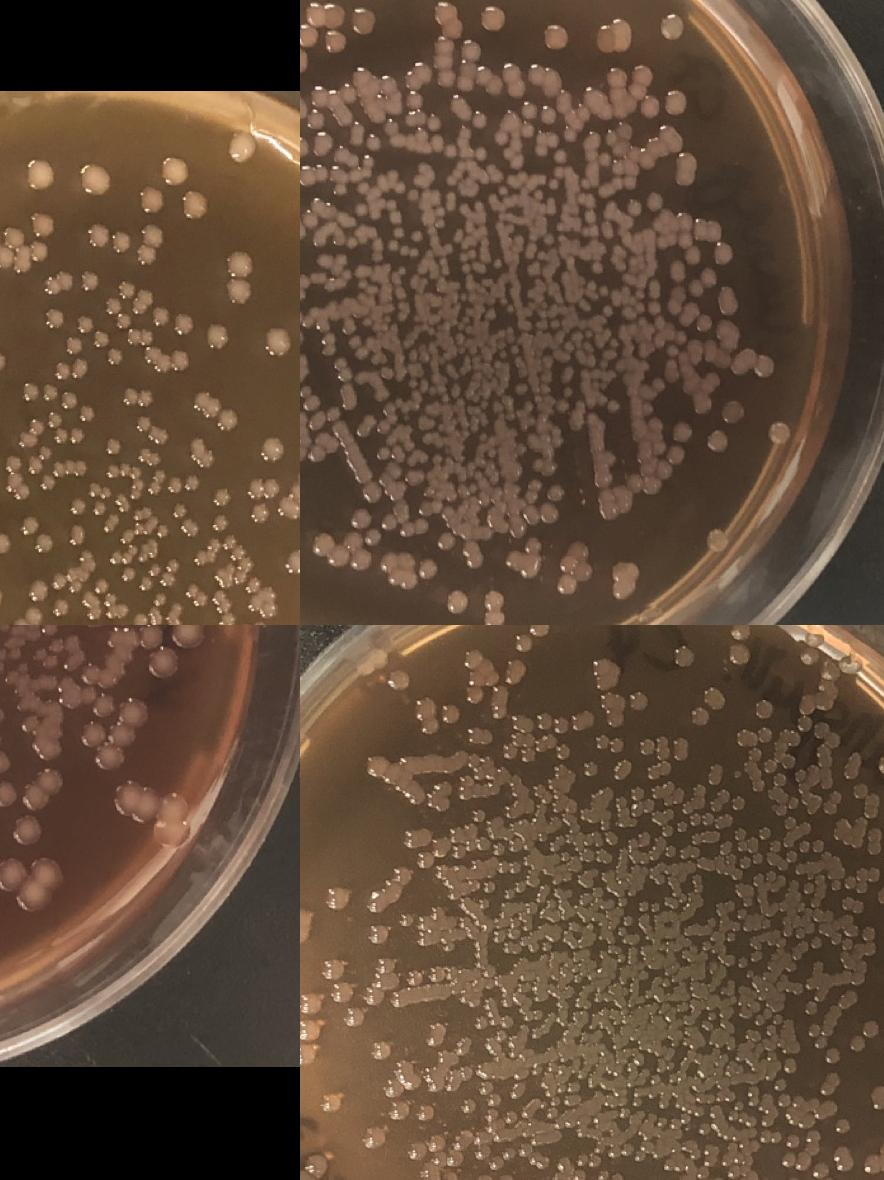pddamselae: (19, 382, 98, 422), (192, 390, 238, 429), (208, 533, 254, 571), (224, 247, 254, 305), (85, 223, 135, 255), (106, 461, 146, 501), (135, 221, 166, 267), (91, 329, 128, 366), (20, 515, 55, 553), (0, 222, 28, 268), (150, 306, 196, 332), (82, 162, 112, 192), (136, 184, 166, 214), (158, 154, 188, 184), (264, 324, 292, 356), (52, 357, 90, 380), (183, 190, 212, 220), (228, 132, 256, 163), (26, 158, 54, 188), (204, 321, 232, 351), (42, 270, 75, 295), (6, 607, 46, 625), (120, 386, 156, 406), (51, 458, 89, 476), (54, 424, 88, 444), (259, 435, 285, 461), (32, 213, 58, 238), (246, 479, 280, 496), (278, 493, 300, 519), (281, 546, 300, 576), (160, 557, 178, 585), (88, 482, 115, 500), (138, 446, 162, 466), (147, 468, 166, 492), (29, 579, 51, 599), (64, 336, 86, 356), (79, 269, 101, 289), (100, 295, 122, 315), (116, 278, 138, 298), (168, 349, 190, 369), (43, 307, 65, 326), (74, 314, 95, 333), (64, 526, 86, 544), (165, 603, 182, 625), (150, 426, 168, 444), (192, 589, 210, 607), (213, 487, 231, 505), (252, 504, 270, 522), (196, 448, 214, 465), (0, 350, 8, 379), (16, 484, 30, 499), (0, 531, 10, 551), (39, 443, 53, 457), (68, 578, 82, 592), (88, 605, 102, 619), (94, 500, 108, 514), (106, 438, 120, 452), (136, 415, 150, 429), (154, 591, 168, 605), (157, 524, 171, 538), (184, 520, 198, 534), (214, 515, 228, 529), (246, 576, 260, 590), (31, 419, 44, 433), (54, 600, 68, 613), (70, 499, 84, 512), (29, 458, 43, 470), (40, 476, 54, 488), (48, 412, 62, 424), (54, 574, 68, 586), (96, 580, 110, 592), (150, 613, 164, 625), (168, 478, 182, 490), (186, 476, 200, 488), (174, 504, 186, 516)
vangil: (594, 658, 626, 729), (676, 801, 734, 833), (830, 867, 882, 896), (409, 780, 454, 813), (806, 1023, 841, 1065), (536, 710, 595, 734), (730, 852, 766, 881), (479, 1080, 502, 1122), (786, 838, 826, 862), (483, 999, 514, 1028), (608, 1142, 648, 1163), (416, 698, 438, 734), (862, 1138, 884, 1174), (447, 825, 468, 861), (488, 1146, 515, 1171), (594, 733, 626, 754), (818, 1070, 842, 1096), (562, 918, 582, 949), (402, 828, 432, 848), (628, 783, 646, 816), (475, 833, 504, 853), (833, 1145, 855, 1171), (466, 726, 495, 744), (646, 759, 672, 779), (823, 789, 843, 815), (672, 735, 690, 761), (811, 1161, 835, 1180), (830, 931, 854, 950), (612, 758, 632, 780), (327, 887, 348, 907), (367, 892, 388, 912), (842, 896, 865, 914), (300, 994, 320, 1014), (307, 1153, 327, 1173), (321, 1092, 341, 1112), (324, 958, 344, 978), (332, 981, 352, 1001), (343, 1006, 363, 1026), (366, 1126, 386, 1146), (368, 924, 388, 944), (368, 648, 388, 668), (371, 1040, 391, 1060), (389, 670, 409, 690), (390, 1099, 410, 1119), (407, 1140, 427, 1160), (690, 706, 710, 726), (730, 644, 750, 664), (800, 646, 820, 666), (820, 660, 840, 680), (367, 756, 388, 775), (684, 1140, 702, 1162), (868, 828, 882, 856), (464, 649, 483, 669), (507, 660, 526, 680), (675, 646, 694, 666), (754, 698, 774, 717), (441, 703, 460, 722), (300, 1020, 318, 1040), (513, 634, 533, 652), (630, 690, 648, 710), (708, 691, 726, 711), (708, 763, 724, 785), (397, 910, 416, 928), (534, 883, 552, 902), (671, 886, 690, 904), (376, 955, 394, 973), (390, 990, 408, 1008), (406, 968, 424, 986), (416, 850, 434, 868), (417, 1103, 435, 1121), (426, 1029, 444, 1047), (428, 1132, 446, 1150), (446, 1149, 464, 1167), (456, 1036, 474, 1054), (555, 743, 573, 761), (582, 759, 600, 777), (638, 736, 656, 754), (783, 1130, 801, 1148), (834, 1118, 852, 1136), (842, 761, 860, 779), (847, 1033, 865, 1051), (852, 782, 870, 800), (702, 1143, 716, 1166), (427, 965, 445, 982), (461, 1096, 478, 1114), (470, 806, 487, 824), (781, 1151, 798, 1169), (731, 625, 751, 640), (861, 1020, 879, 1036), (498, 860, 520, 873), (638, 914, 653, 933), (300, 1043, 314, 1063), (652, 974, 672, 988), (639, 900, 662, 912), (524, 1008, 543, 1022), (662, 1158, 684, 1170), (695, 1091, 716, 1103), (870, 1083, 884, 1101), (529, 625, 548, 636), (504, 1110, 518, 1124), (520, 1142, 534, 1156), (580, 892, 594, 906), (660, 824, 674, 838), (664, 844, 678, 858), (696, 1166, 710, 1180), (716, 788, 730, 802), (720, 1153, 734, 1167), (726, 1108, 740, 1122), (732, 795, 746, 809), (733, 826, 747, 840), (736, 955, 750, 969), (764, 758, 778, 772), (772, 1011, 786, 1025), (773, 772, 787, 786), (787, 795, 801, 809), (791, 981, 805, 995), (811, 935, 825, 949), (864, 804, 878, 818), (589, 1154, 602, 1168), (605, 832, 619, 845), (638, 832, 652, 845), (699, 1121, 712, 1135), (758, 825, 772, 838), (758, 727, 772, 740), (785, 816, 798, 830), (804, 1001, 817, 1015), (813, 959, 826, 973), (851, 972, 865, 985), (630, 1097, 644, 1109), (440, 1171, 458, 1180), (876, 883, 884, 903), (474, 1016, 487, 1028), (502, 887, 515, 899), (617, 895, 630, 907), (690, 832, 702, 845), (484, 880, 496, 892), (495, 1028, 507, 1040), (497, 1172, 515, 1180), (508, 927, 520, 939), (509, 839, 521, 851), (516, 880, 528, 892), (541, 940, 553, 952), (569, 1081, 581, 1093), (580, 1031, 592, 1043), (582, 998, 594, 1010), (583, 849, 595, 861), (592, 885, 604, 897), (601, 851, 613, 863), (618, 1106, 630, 1118), (622, 914, 634, 926), (637, 968, 649, 980), (648, 1087, 660, 1099), (650, 1072, 662, 1084), (654, 872, 666, 884), (658, 1098, 670, 1110), (665, 1059, 677, 1071), (694, 1105, 706, 1117), (710, 1105, 722, 1117), (724, 1090, 736, 1102), (725, 1039, 737, 1051), (563, 886, 574, 898), (678, 1175, 690, 1180)
vharveyi: (113, 780, 189, 846), (0, 845, 62, 910), (300, 1, 346, 72), (82, 722, 132, 772), (379, 550, 438, 588), (642, 444, 686, 494), (139, 625, 180, 676), (21, 768, 66, 810), (486, 62, 527, 98), (78, 682, 118, 718), (668, 244, 704, 282), (380, 511, 430, 538), (504, 546, 542, 580), (141, 625, 205, 645), (686, 263, 722, 298), (352, 508, 384, 546), (388, 224, 420, 259), (625, 190, 665, 218), (434, 0, 464, 36), (11, 815, 43, 847), (482, 588, 508, 625), (541, 482, 565, 522), (427, 109, 446, 153), (310, 530, 338, 556), (704, 426, 730, 454), (662, 90, 689, 116), (676, 151, 696, 185), (352, 7, 378, 33), (444, 588, 470, 614), (480, 5, 506, 31), (542, 24, 568, 50), (660, 13, 686, 39), (704, 528, 730, 554), (711, 240, 737, 266), (766, 419, 792, 445), (720, 399, 746, 424), (751, 352, 776, 378), (568, 537, 592, 563), (557, 572, 580, 598), (610, 578, 634, 601), (306, 106, 328, 130), (616, 118, 636, 142), (695, 310, 715, 334), (0, 730, 11, 773), (300, 160, 317, 186), (632, 64, 652, 85), (640, 97, 660, 118), (0, 781, 17, 805), (303, 393, 323, 413), (307, 444, 327, 464), (314, 250, 334, 270), (324, 402, 344, 422), (326, 30, 346, 50), (436, 532, 456, 552), (436, 67, 456, 87), (462, 40, 482, 60), (490, 127, 510, 147), (527, 64, 547, 84), (550, 146, 570, 166), (673, 420, 693, 440), (498, 342, 521, 359), (470, 108, 489, 128), (472, 144, 492, 163), (498, 295, 516, 315), (608, 66, 626, 86), (694, 394, 712, 414), (20, 714, 40, 732), (366, 129, 382, 151), (466, 550, 484, 568), (406, 188, 420, 202), (590, 262, 606, 274), (606, 400, 622, 412), (300, 136, 309, 156), (514, 381, 529, 393), (395, 179, 407, 193), (412, 228, 424, 242), (492, 255, 504, 269), (514, 232, 526, 246), (533, 187, 545, 201), (536, 247, 548, 261), (543, 231, 555, 245), (548, 176, 560, 190), (562, 385, 576, 397), (597, 283, 609, 297), (602, 303, 614, 317), (457, 290, 470, 302), (408, 377, 420, 389), (441, 391, 453, 403), (460, 262, 472, 274), (476, 429, 488, 441), (486, 446, 498, 458), (548, 316, 560, 328), (564, 340, 576, 352), (583, 327, 595, 339), (597, 358, 609, 370), (608, 336, 620, 348), (300, 366, 307, 386), (300, 305, 305, 325), (0, 706, 6, 722), (86, 625, 105, 630)
